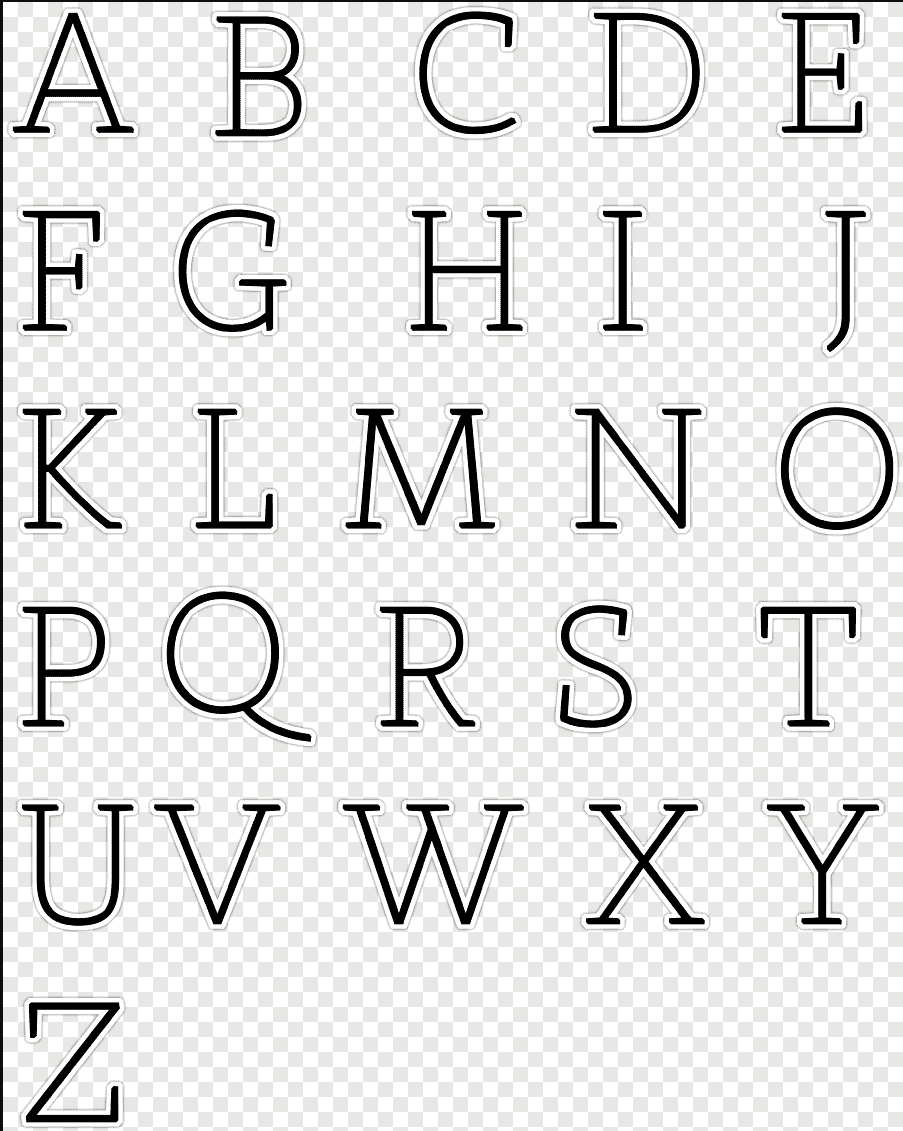A: (11, 6, 143, 150)
B: (202, 6, 325, 146)
C: (414, 5, 533, 148)
D: (574, 6, 709, 145)
E: (767, 5, 887, 145)
F: (10, 201, 117, 340)
G: (172, 201, 294, 340)
H: (403, 203, 534, 350)
I: (584, 197, 656, 344)
J: (805, 197, 884, 362)
K: (11, 392, 135, 548)
L: (176, 392, 287, 539)
M: (342, 398, 504, 539)
N: (560, 398, 711, 542)
O: (769, 398, 897, 538)
P: (8, 591, 106, 740)
Q: (158, 582, 325, 758)
R: (363, 594, 490, 740)
S: (540, 597, 643, 737)
T: (747, 592, 870, 746)
U: (11, 792, 138, 933)
V: (144, 795, 291, 941)
W: (333, 785, 537, 936)
X: (572, 789, 716, 939)
Y: (754, 787, 896, 939)
Z: (13, 983, 140, 1130)
